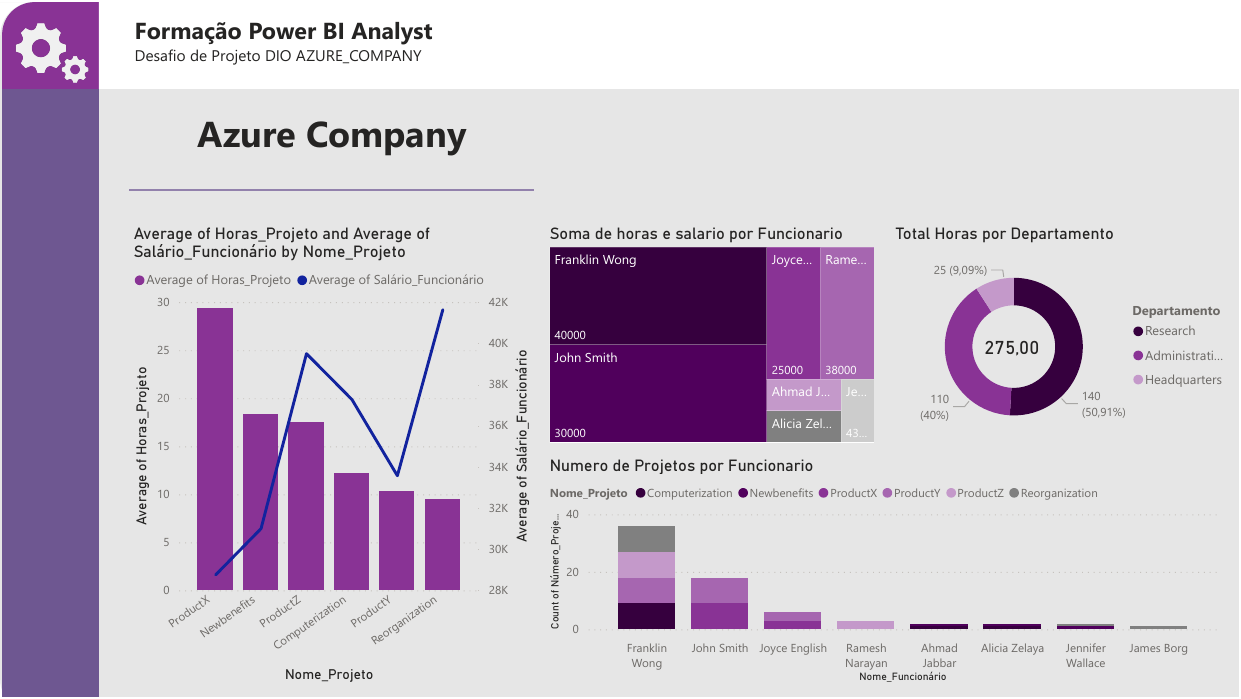

The page's visual inventory and layout, read from the dashboard file:
{"tool":"powerbi","page":{"name":"Página 1","canvas":[1280,720],"ordinal":0},"visuals":[{"type":"group","id":"g1","title":"Group 1","box":[0,0,1327.5,737.5],"z":0},{"type":"shape","box":[0,0,1327,737],"z":0,"group":"g1"},{"type":"shape","box":[2,0,100,737],"z":1000,"group":"g1"},{"type":"lineStackedColumnComboChart","fields":{"Category":["Funcionário.Nome_Projeto"],"Y":["Funcionário.Horas_Projeto"],"Y2":["Funcionário.Salário_Funcionário"]},"box":[132.5,230,418.8,480],"z":1000},{"type":"shape","box":[2.2,0,100,90],"z":2000,"group":"g1"},{"type":"columnChart","title":"Numero de Projetos por Funcionario","fields":{"Category":["Funcionário.Nome_Funcionário"],"Y":["Funcionário.Número_Projeto"],"Series":["Funcionário.Nome_Projeto"]},"box":[562.5,470,700,240],"z":2000},{"type":"shape","box":[102,0,1225,90],"z":3000,"group":"g1"},{"type":"treemap","title":"Soma de horas e salario por Funcionario","fields":{"Group":["Funcionário.Nome_Funcionário"],"Details":["Funcionário.Salário_Funcionário"],"Values":["Funcionário.Horas_Projeto"]},"box":[562.5,230,345,231.2],"z":3000},{"type":"image","box":[2.5,0,102.5,105],"z":4000,"group":"g1"},{"type":"textbox","box":[192.5,106.2,300,66.2],"z":4000},{"type":"textbox","box":[133.5,7.5,735,75],"z":5000,"group":"g1"},{"type":"donutChart","title":"Total Horas por Departamento","fields":{"Category":["azure_company departament.Dname"],"Y":["azure_company works_on.Hours"]},"box":[920,230,360,235],"z":5000},{"type":"shape","box":[133,172,419,45],"z":6000,"group":"g1"},{"type":"card","fields":{"Values":["azure_company works_on.Hours"]},"box":[997.3,330,96.7,56],"z":6000}]}

Visuals, with their boxes in screenshot pixels (x1, y1, x2, y2), scaled from the page's 1280x720 canvas onto the 1241x699 screenshot:
"Group 1" group: box(0, 0, 1240, 698)
shape: box(0, 0, 1240, 698)
shape: box(2, 0, 99, 698)
lineStackedColumnComboChart - Funcionário.Nome_Projeto x Funcionário.Horas_Projeto: box(128, 223, 535, 689)
shape: box(2, 0, 99, 87)
"Numero de Projetos por Funcionario" columnChart: box(545, 456, 1224, 689)
shape: box(99, 0, 1240, 87)
"Soma de horas e salario por Funcionario" treemap: box(545, 223, 880, 448)
image: box(2, 0, 102, 102)
textbox: box(187, 103, 477, 167)
textbox: box(129, 7, 842, 80)
"Total Horas por Departamento" donutChart: box(892, 223, 1240, 451)
shape: box(129, 167, 535, 211)
card - azure_company works_on.Hours: box(967, 320, 1061, 375)
